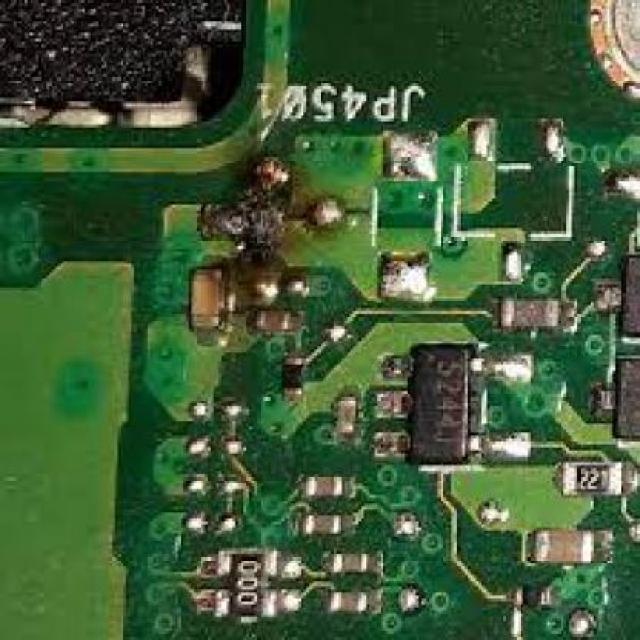Burn: (176, 136, 332, 279)
